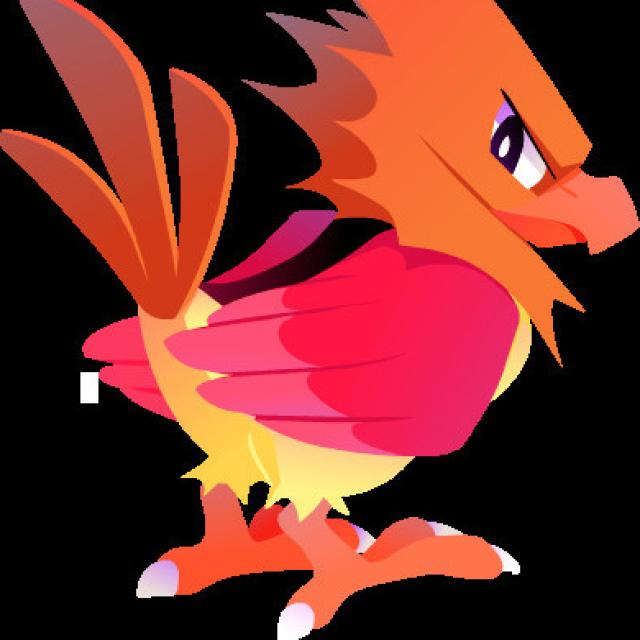Spearow: (17, 0, 640, 639)
